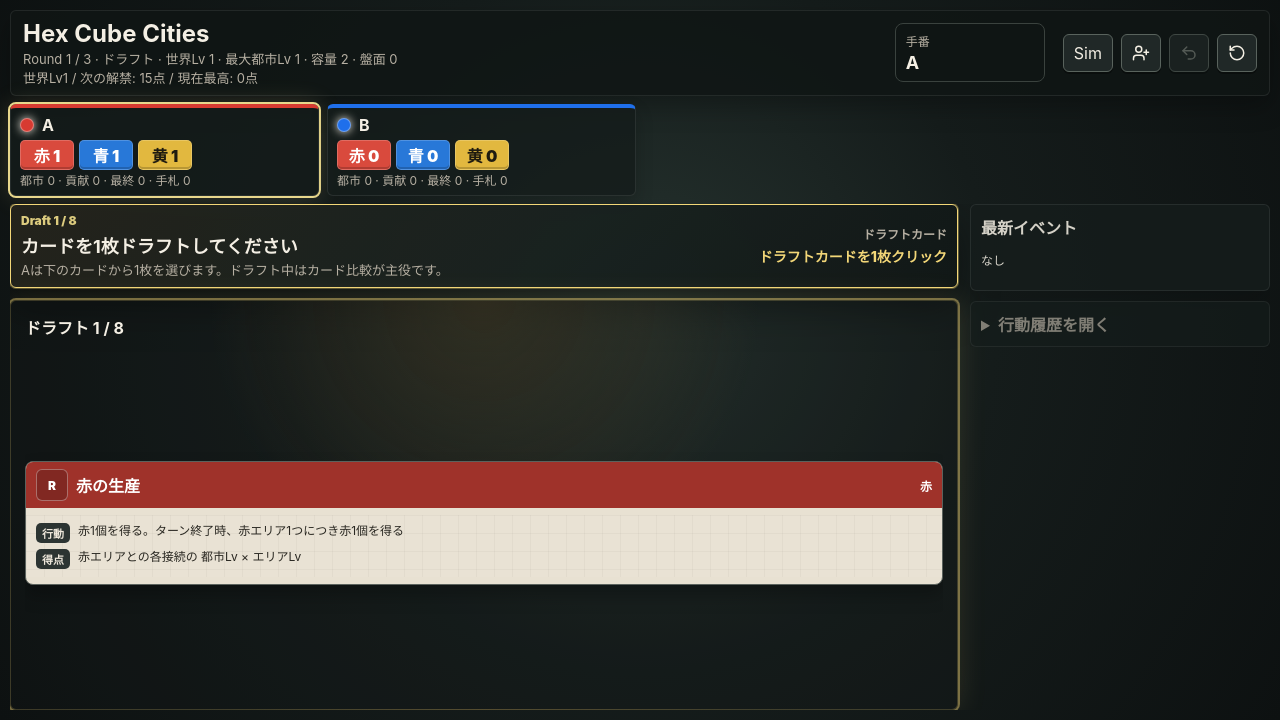
Test: App › returns from an active game to the setup screen for a new game
This screenshot has width=1280, height=720.
Expected: the text "Round 1 / 3 · ドラフト · 世界Lv 1 · 最大都市Lv 1 · 容量 2 · 盤面 0" is shown, [23,51,398,67]
What coordinates should you click on to do the following:
click the button named "New game"
I would click on:
 (1141, 53)
Its box is [1121,34,1161,72].
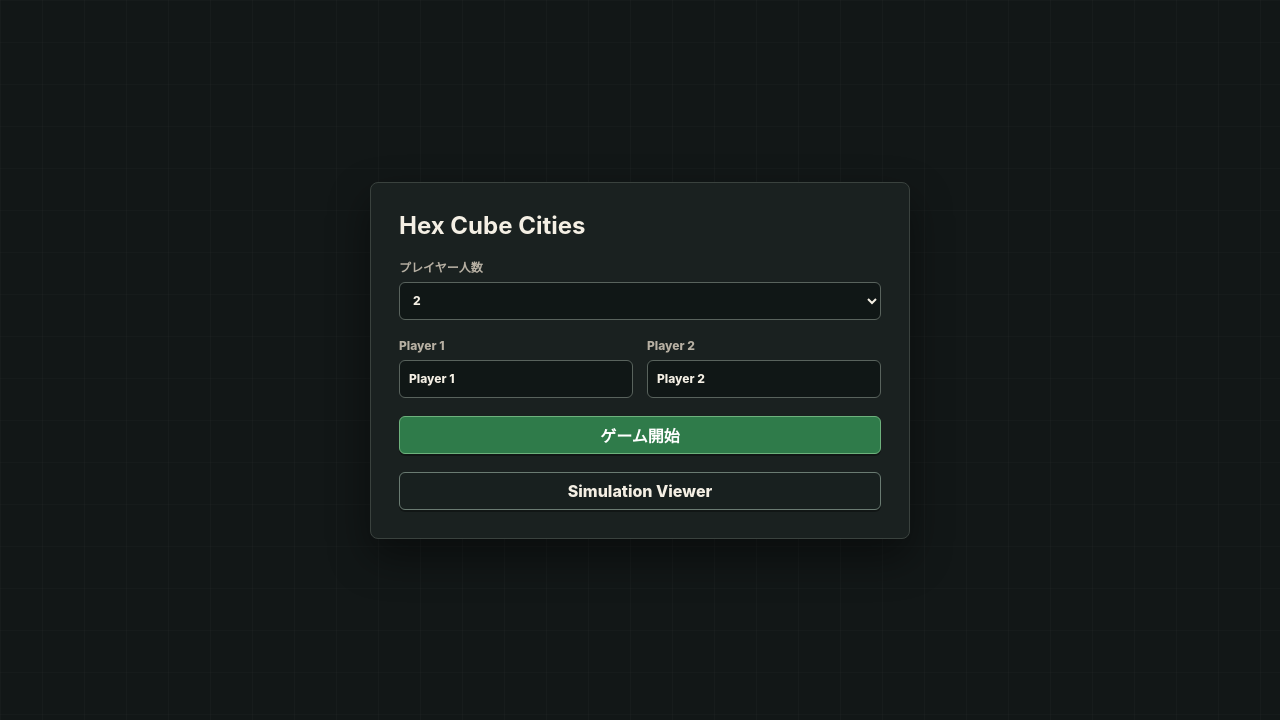
Expected: the button "ゲーム開始" is shown, [399,416,881,454]
